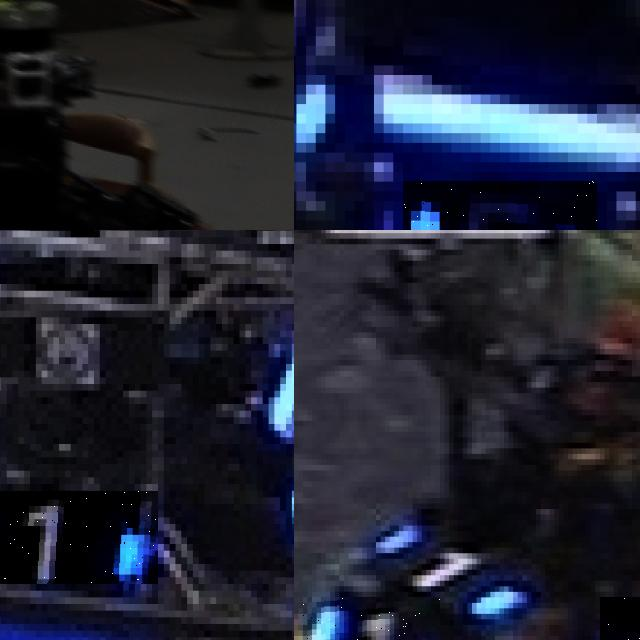B1: (0, 490, 158, 584), (303, 597, 440, 640)
B5: (403, 181, 597, 230)
